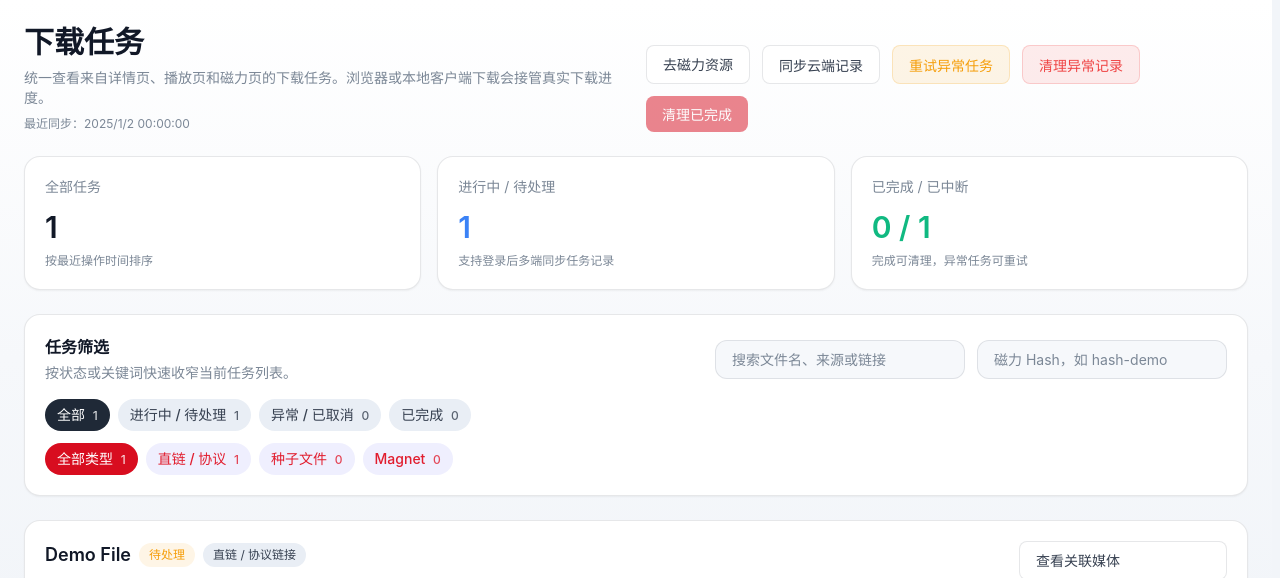
Test: DownloadsView › shows partial-success feedback when remote failed-task clear fails
Click the button "清理异常记录" at (1081, 64), box [1022,45,1140,84]
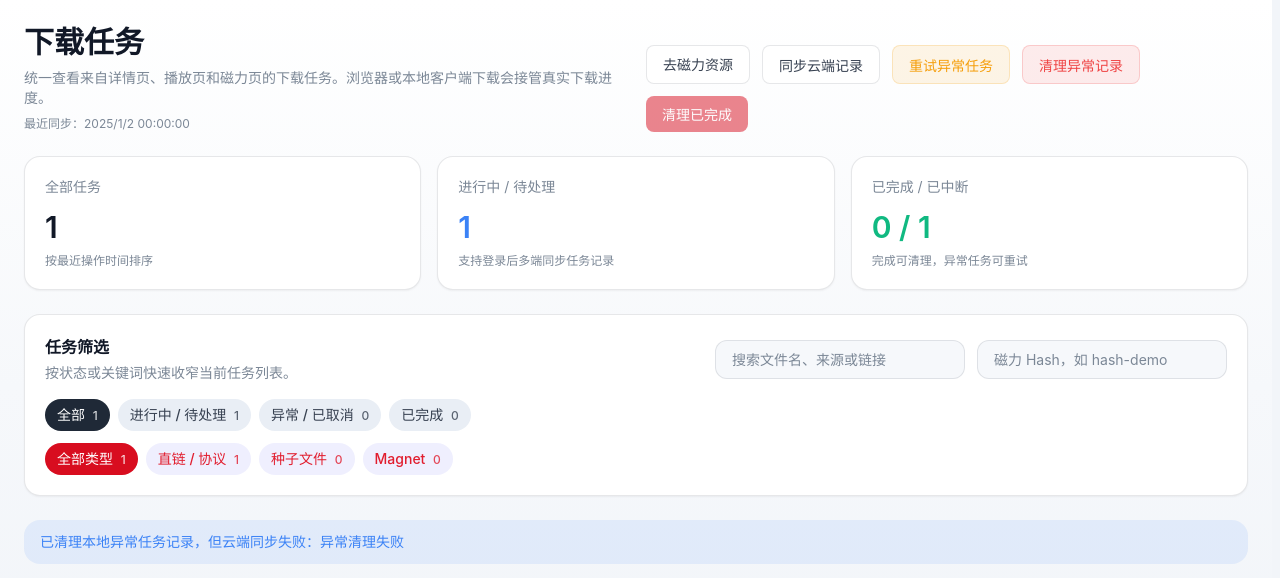
Check: the text "已清理本地异常任务记录，但云端同步失败：异常清理失败" is shown, box [24,520,1248,564]
